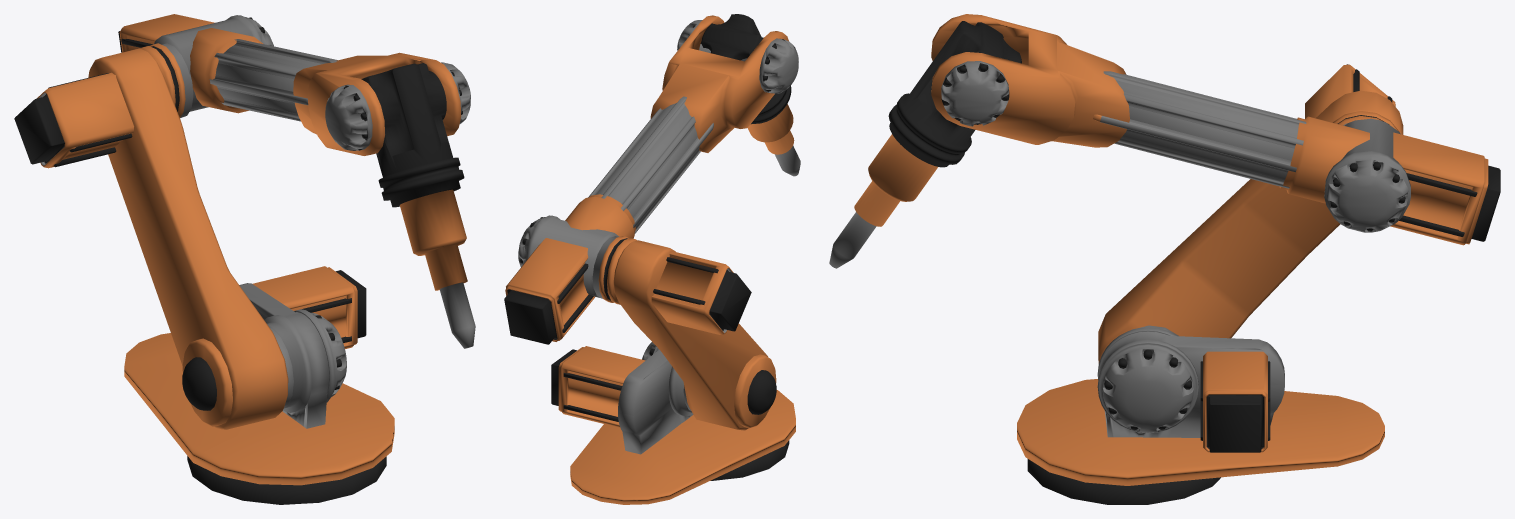
The model's file is lab3_a2.glb.
3 renders of one model, left to right at view 1: azimuth 30°, elevation 25°; view 2: azimuth 150°, elevation 25°; view 3: azimuth 270°, elevation 25°, orthographic. The views are drawn at different scales.
Visible parts, largest first — view 1: Cylinder.011; view 2: Cylinder.011; view 3: Cylinder.011.
Boxes of the visible parts, x1=… form: Cylinder.011: x1=14, y1=14, x2=475, y2=504; Cylinder.011: x1=504, y1=14, x2=800, y2=504; Cylinder.011: x1=829, y1=14, x2=1500, y2=504.
Size of the model in its own units: 1.37 by 2.2 by 2.93.
